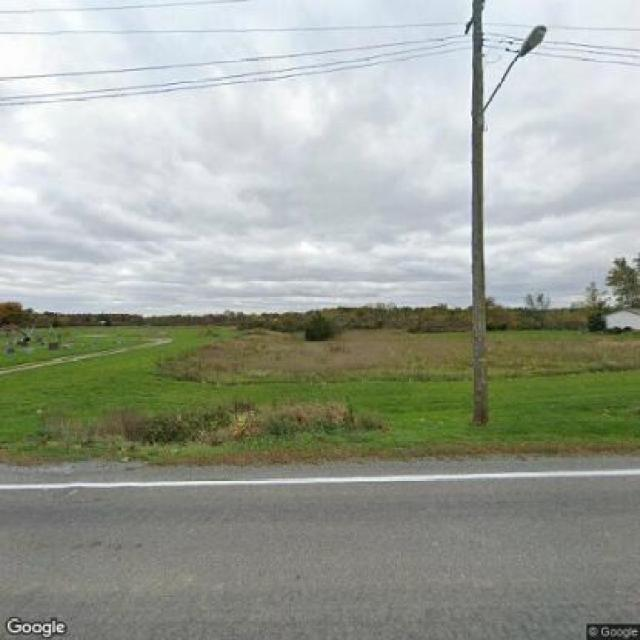pole: (450, 1, 501, 432)
